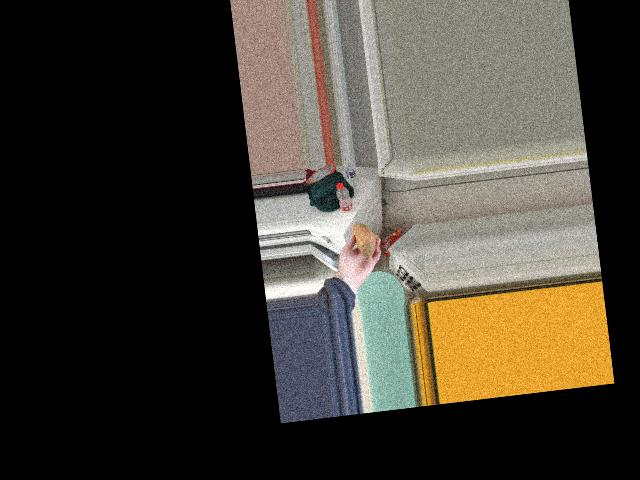sweet_potato: (354, 220, 376, 262)
